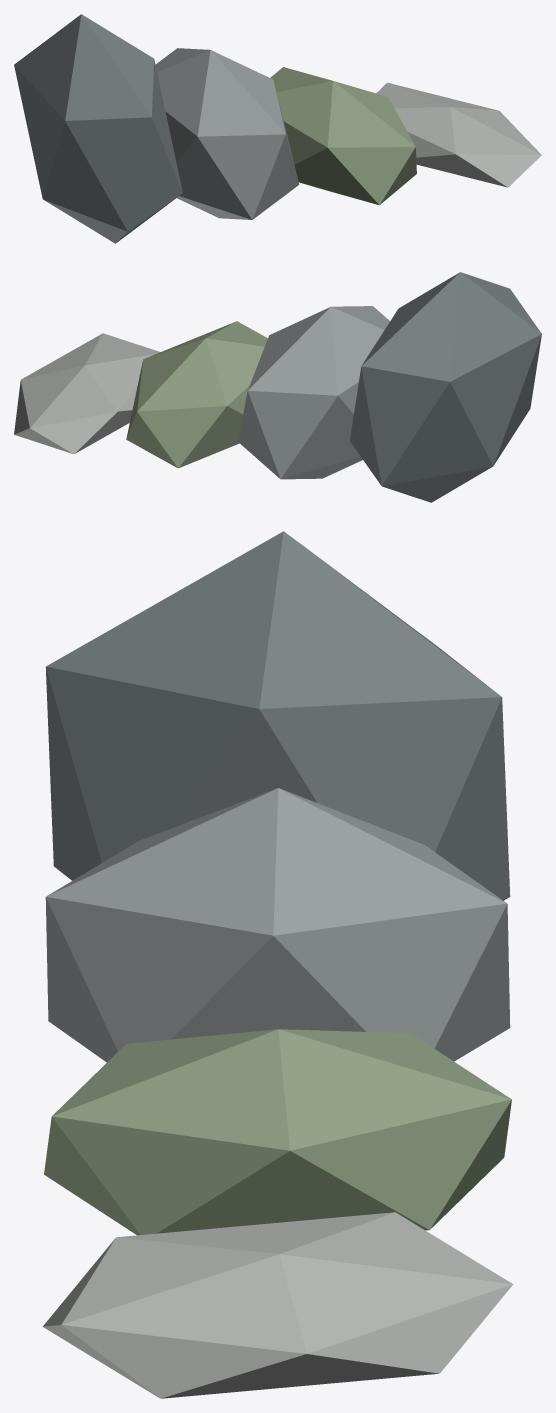
File: terrain_transition_right_4x2x2.glb
The picture shows the model from 3 angles, top to bottom: view 1: azimuth 30°, elevation 25°; view 2: azimuth 150°, elevation 25°; view 3: azimuth 270°, elevation 25°; orthographic projection. The views are drawn at different scales.
Parts seen in each view (by area): view 1: terrain_transition_right_01, terrain_transition_right_02, terrain_transition_right_03, terrain_transition_right_04; view 2: terrain_transition_right_01, terrain_transition_right_02, terrain_transition_right_03, terrain_transition_right_04; view 3: terrain_transition_right_01, terrain_transition_right_02, terrain_transition_right_03, terrain_transition_right_04.
Boxes of the visible parts, x1,y1,x2,y2 form: terrain_transition_right_01: (14,14,182,243); terrain_transition_right_02: (155,48,299,219); terrain_transition_right_03: (270,67,416,205); terrain_transition_right_04: (376,82,541,187); terrain_transition_right_01: (350,272,541,502); terrain_transition_right_02: (238,306,389,479); terrain_transition_right_03: (126,321,267,468); terrain_transition_right_04: (14,333,160,454); terrain_transition_right_01: (45,531,510,900); terrain_transition_right_02: (45,788,510,1062); terrain_transition_right_03: (44,1029,511,1235); terrain_transition_right_04: (42,1212,513,1398).
Size of the model in its own units: 4.05 by 1.94 by 1.75.
